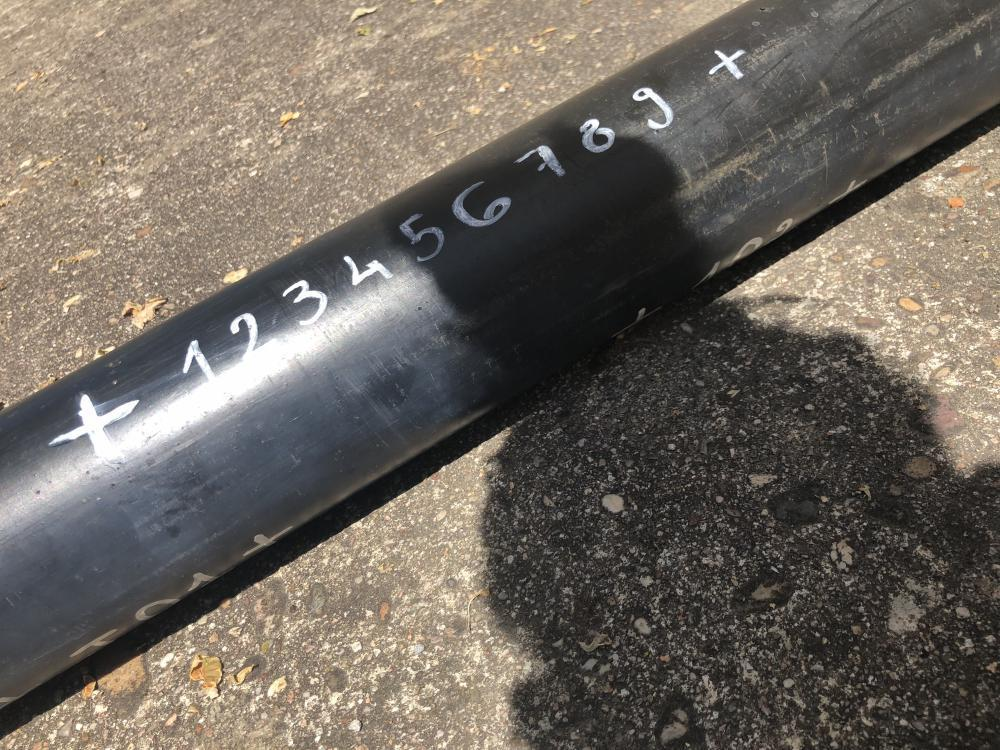+: (53, 396, 142, 457), (710, 46, 746, 81)
1: (183, 340, 218, 391)
2: (230, 312, 274, 364)
3: (284, 278, 330, 328)
4: (339, 249, 395, 287)
5: (397, 212, 446, 262)
6: (452, 178, 509, 227)
7: (516, 142, 565, 179)
8: (578, 116, 615, 152)
9: (630, 85, 674, 130)
